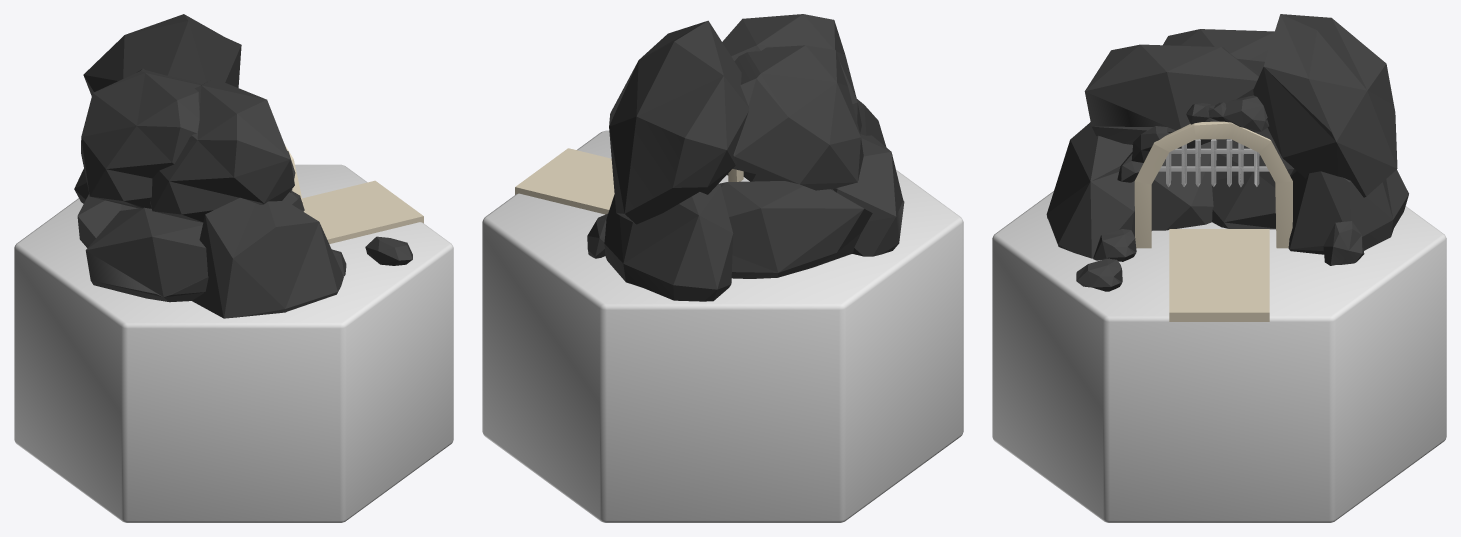
File: start.fbx
3 views of the same model, side by side, from view 1: azimuth 30°, elevation 25°; view 2: azimuth 150°, elevation 25°; view 3: azimuth 270°, elevation 25° (orthographic). The views are drawn at different scales.
Parts seen in each view (by area): view 1: Start; view 2: Start; view 3: Start.
Boxes of the visible parts, x1,y1,x2,y2 form: Start: [14, 14, 453, 522]; Start: [482, 14, 963, 522]; Start: [992, 14, 1446, 522].
Size of the model in its own units: 173 by 203 by 199.
